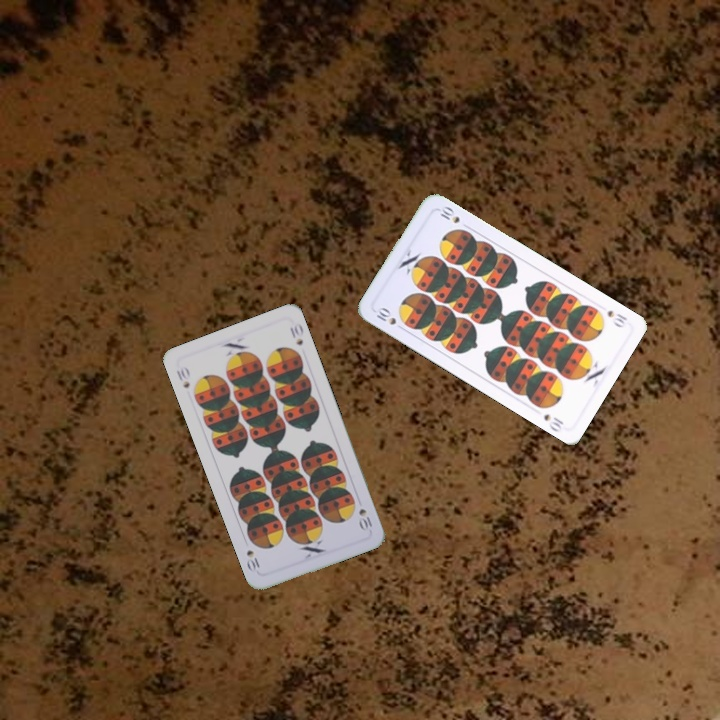S10: (371, 303, 407, 333), (603, 306, 630, 330), (172, 362, 193, 391), (354, 504, 375, 532)
